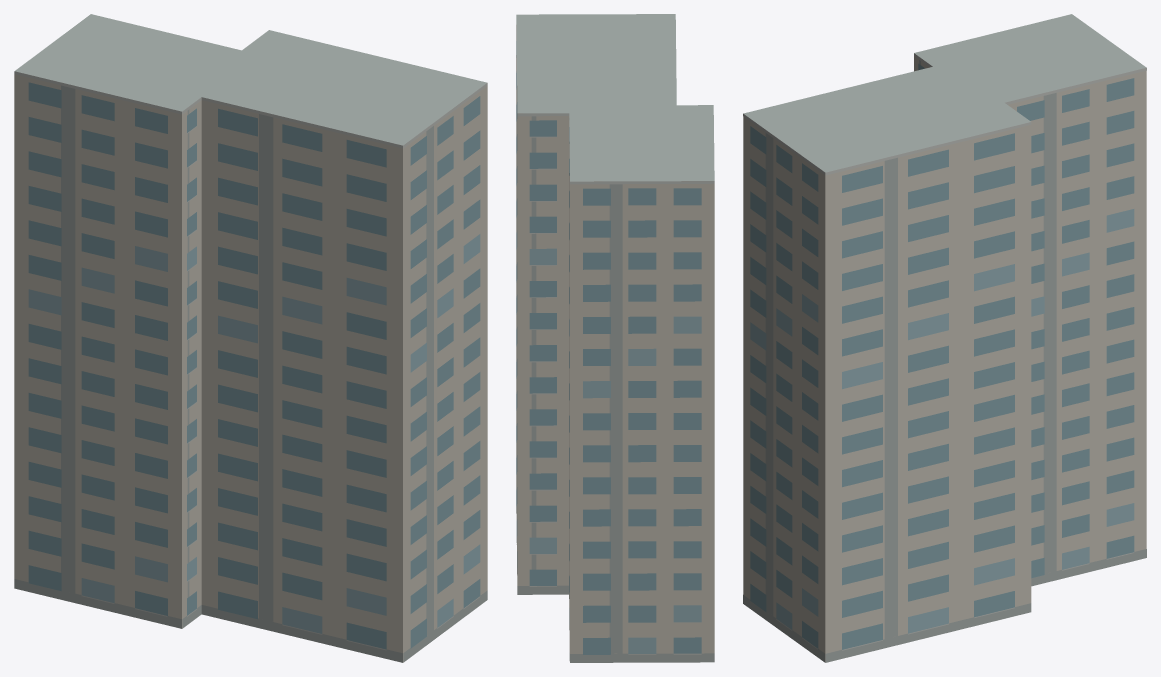
Rendered from residential-b78d4df9-4f49-4243-b259-e48f65d5c4df.glb.
The picture shows the model from 3 angles, left to right: view 1: azimuth 30°, elevation 25°; view 2: azimuth 150°, elevation 25°; view 3: azimuth 270°, elevation 25°; orthographic projection. The views are drawn at different scales.
Visible parts, largest first — view 1: residential-b78d4df9-4f49-4243-b259-e48f65d5c4df.tmp; view 2: residential-b78d4df9-4f49-4243-b259-e48f65d5c4df.tmp; view 3: residential-b78d4df9-4f49-4243-b259-e48f65d5c4df.tmp.
Part boxes in pixels (bbox=[...]): residential-b78d4df9-4f49-4243-b259-e48f65d5c4df.tmp: bbox=[14, 14, 487, 662]; residential-b78d4df9-4f49-4243-b259-e48f65d5c4df.tmp: bbox=[516, 14, 714, 662]; residential-b78d4df9-4f49-4243-b259-e48f65d5c4df.tmp: bbox=[743, 14, 1146, 662].
Bounding box in the file's own units: 29.16 × 42 × 31.35.
